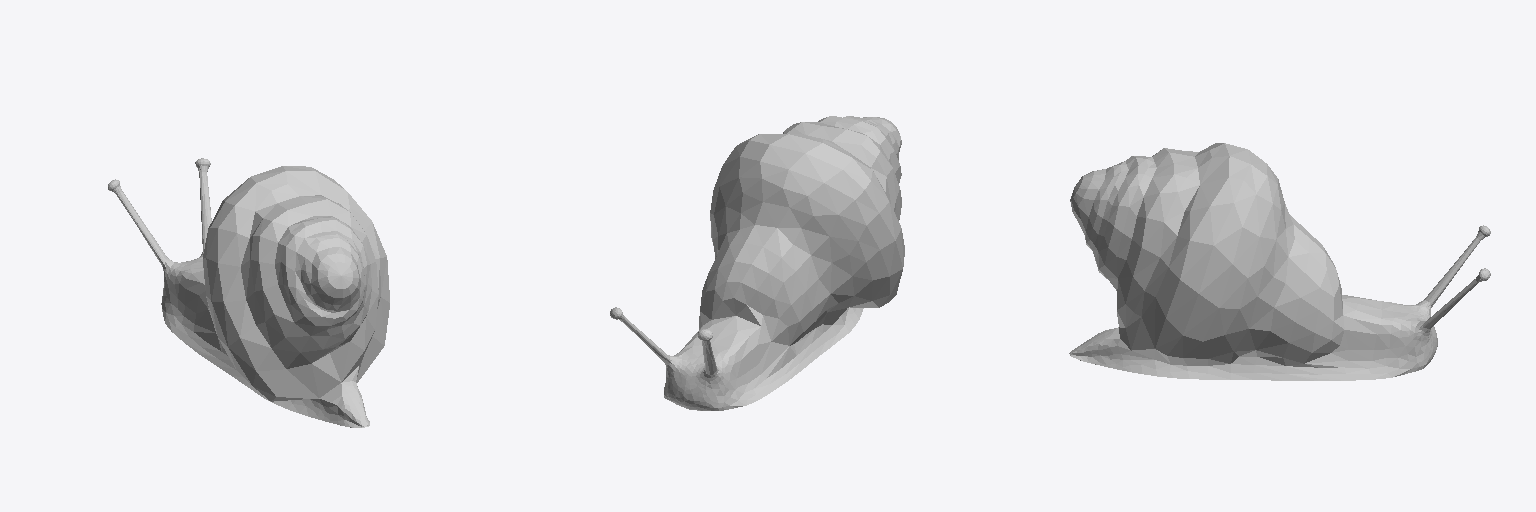
The model's file is lumachina.obj.
3 views of the same model, side by side, from view 1: azimuth 30°, elevation 25°; view 2: azimuth 150°, elevation 25°; view 3: azimuth 270°, elevation 25° (orthographic).
Parts seen in each view (by area): view 1: SNAIL; view 2: SNAIL; view 3: SNAIL.
Part boxes in pixels (x1,y1,x2,y2): SNAIL: (108, 158, 389, 427); SNAIL: (610, 116, 904, 410); SNAIL: (1069, 143, 1490, 380).
Bounding box in the file's own units: 1.41 × 1.61 × 3.